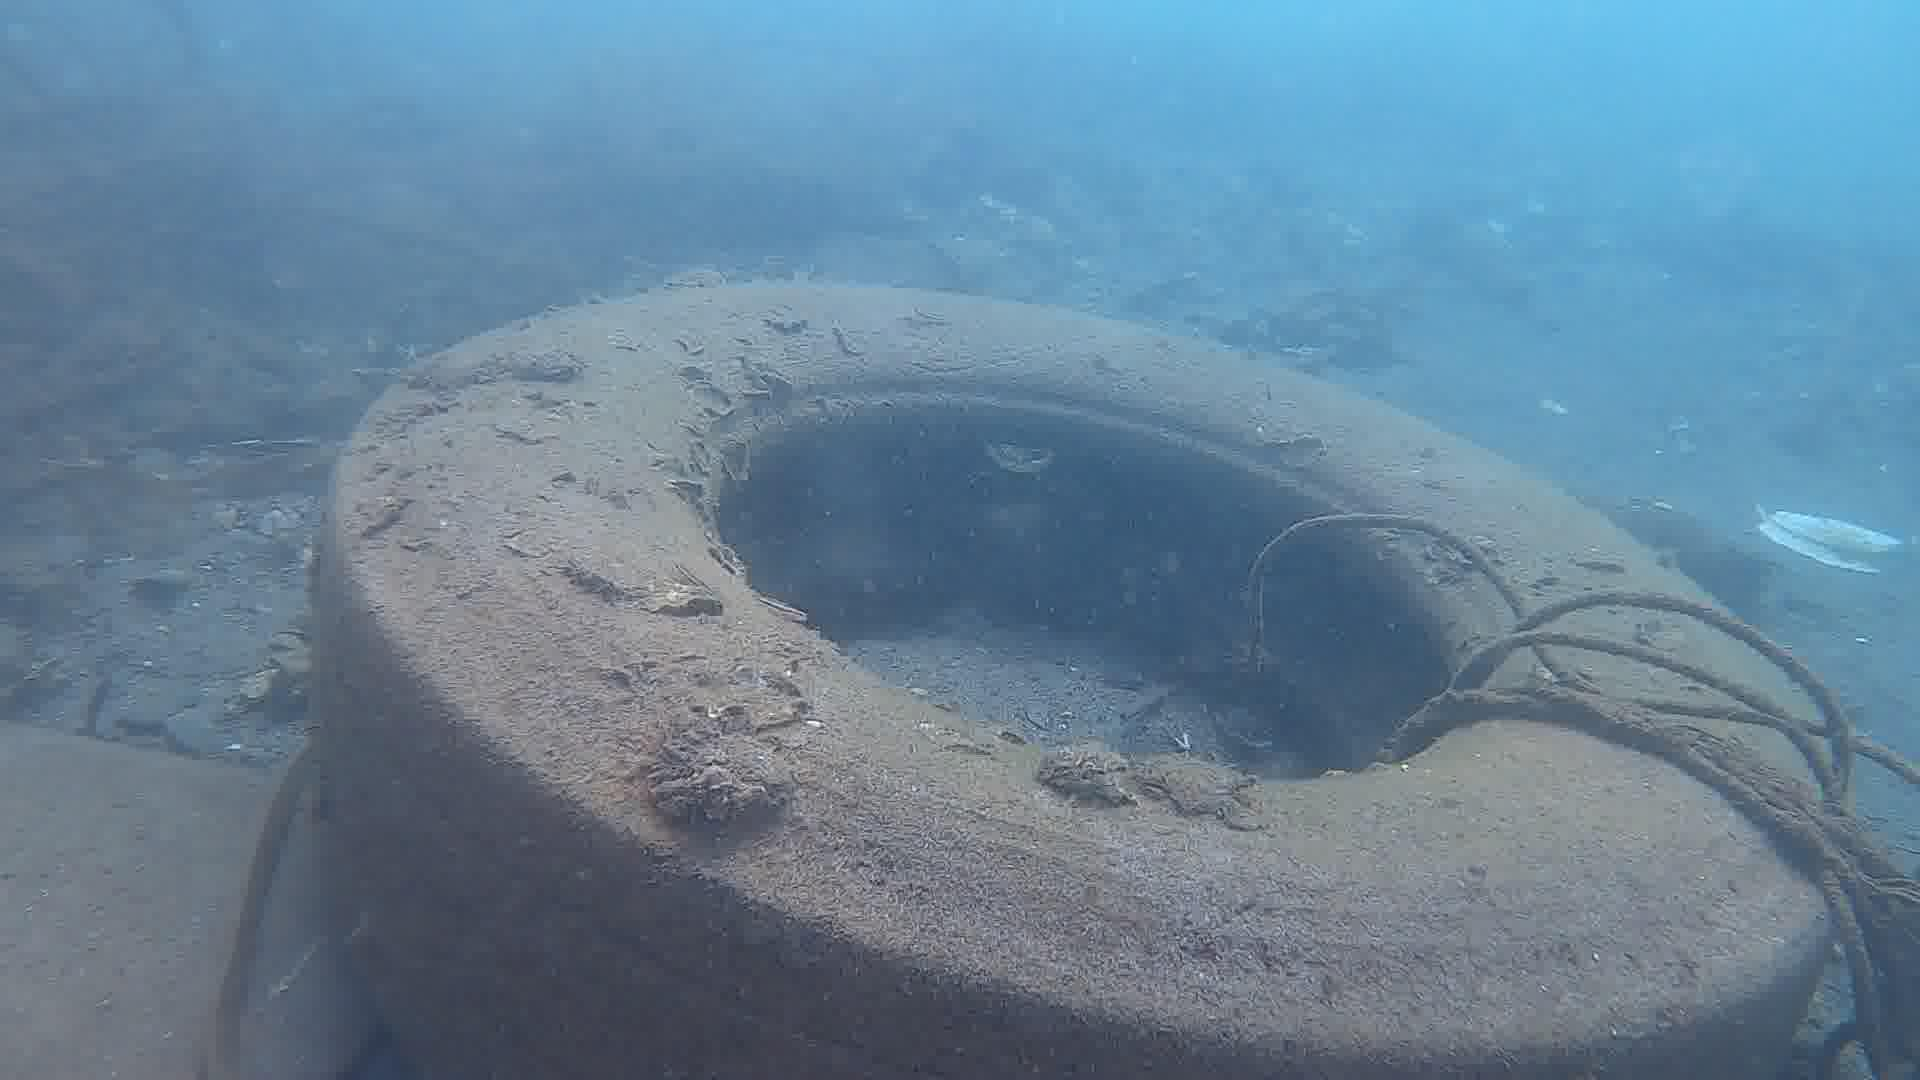bundle of ropes: (1246, 510, 1920, 1080)
tire: (313, 286, 1836, 1080)
